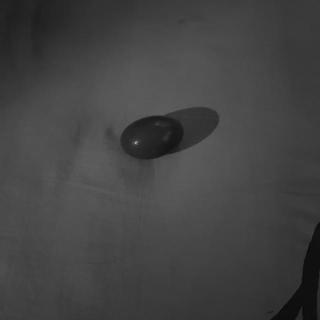Telur: (119, 116, 189, 163)
